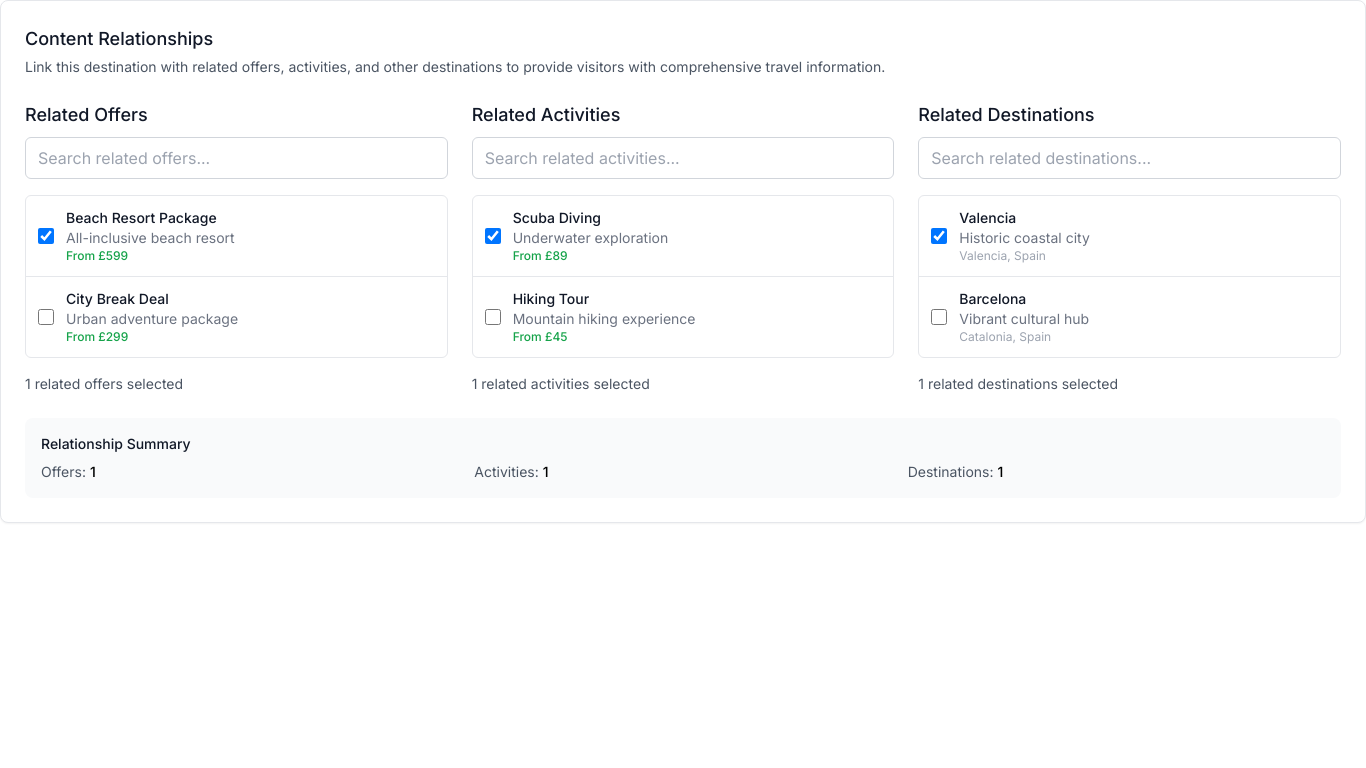
RelationshipManager › Search Functionality › filters offers based on search term
The width and height of the screenshot is (1366, 768).
Expected: the text "Beach Resort Package" is shown, [66,209,217,226]
Expected: the text "City Break Deal" is shown, [66,290,169,307]
// Search for "beach"
Type "beach" into the field with placeholder "Search related offers...".
click(236, 158); type("beach")  # box [25,137,448,179]
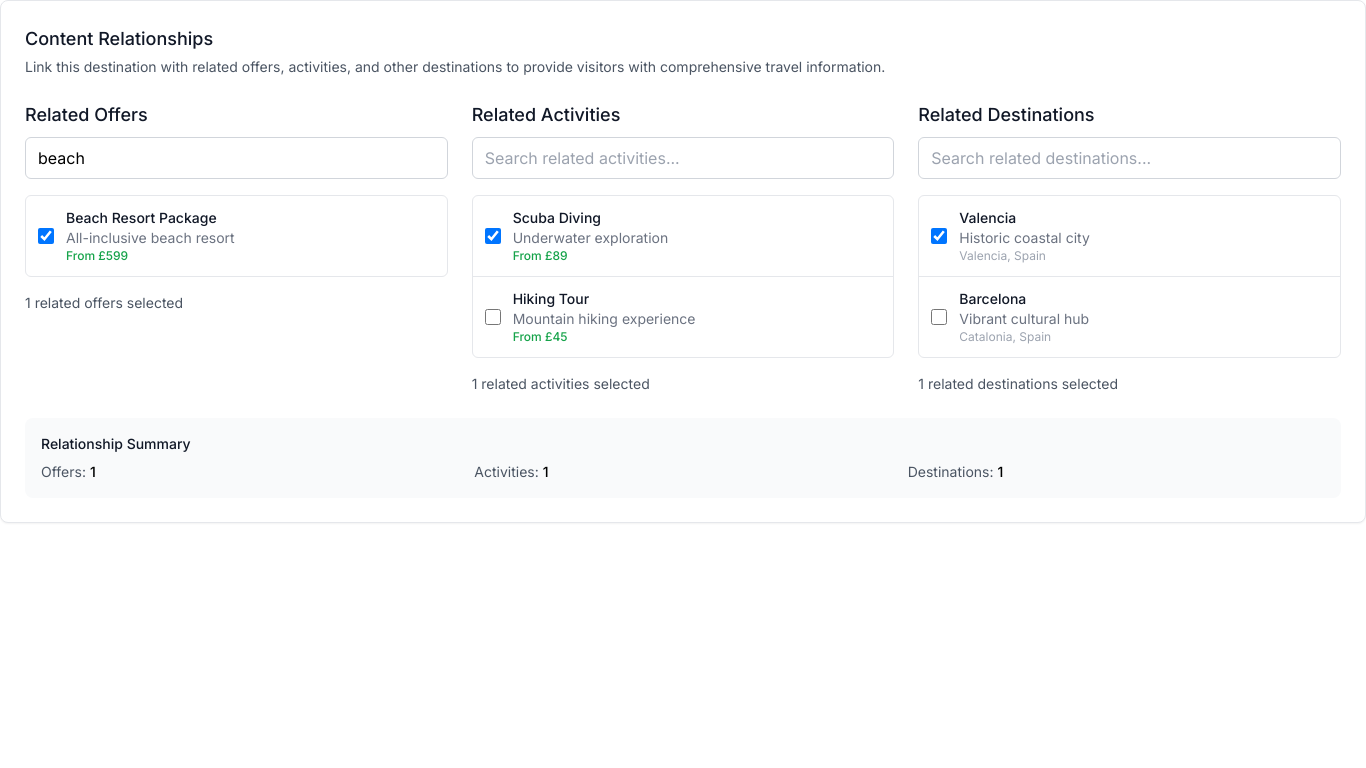
Expected: the text "Beach Resort Package" is shown, [66,209,217,226]
Expected: the text "City Break Deal" is gone
